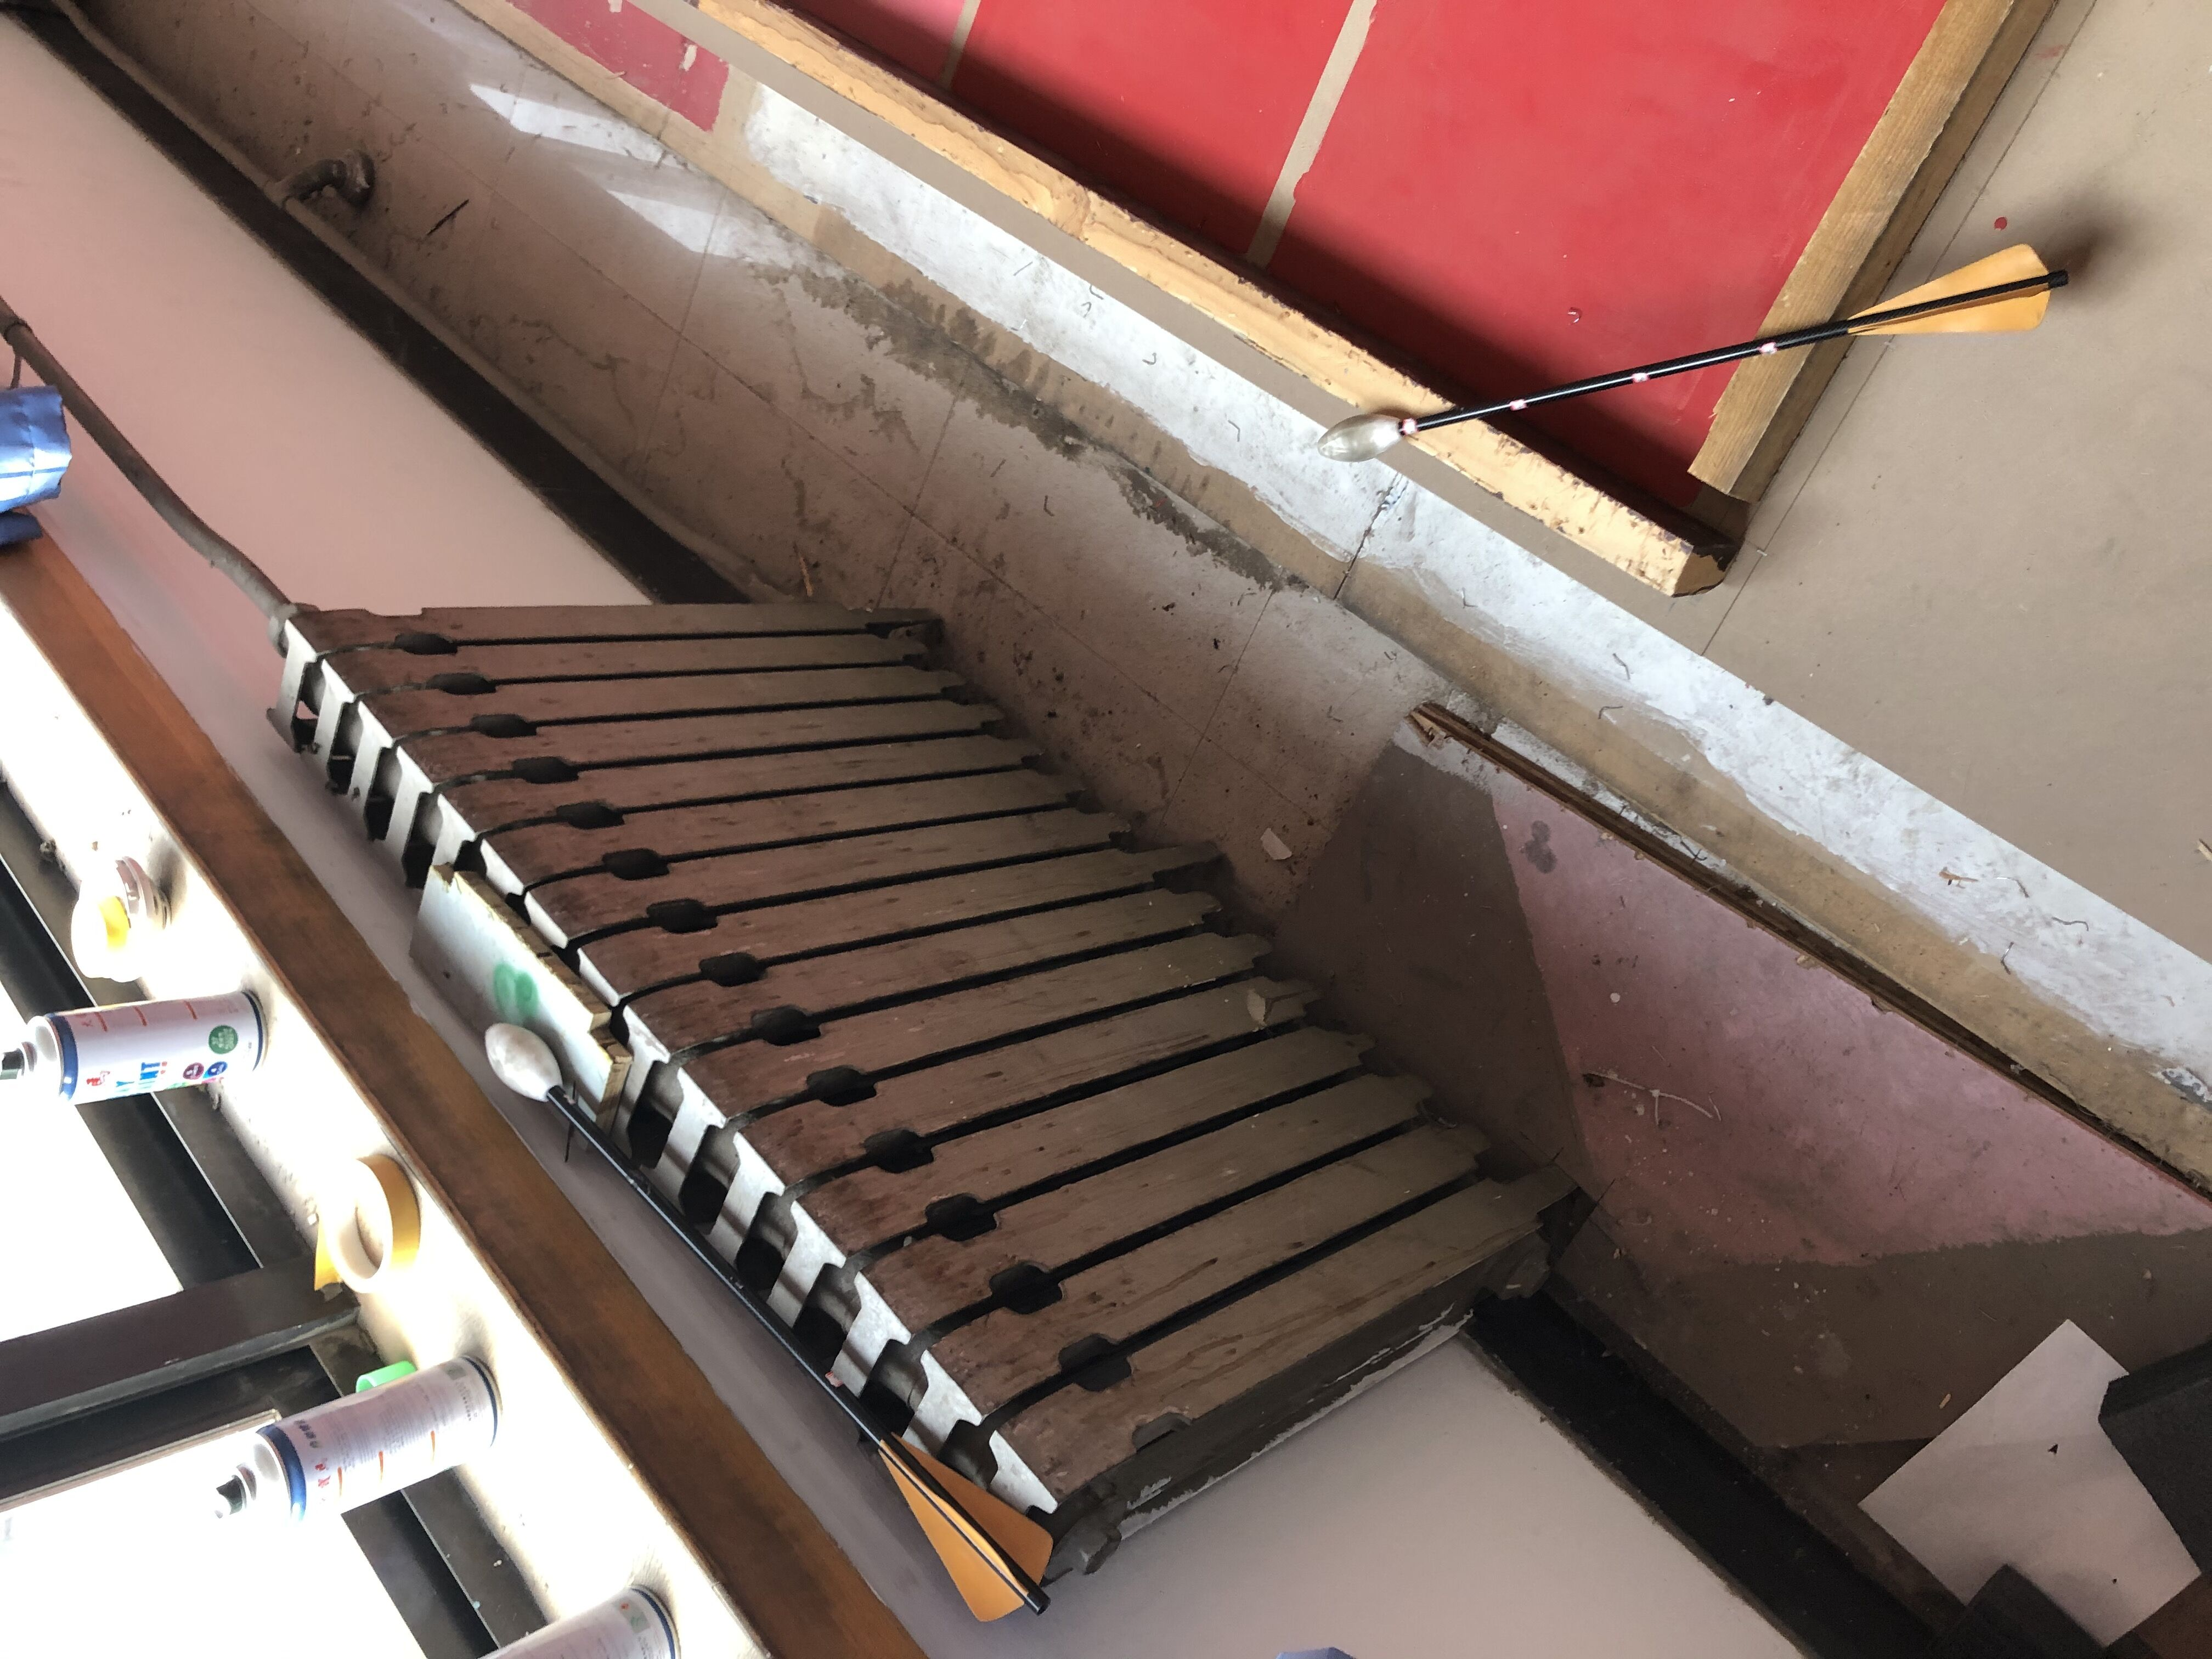arrow: (482, 1016, 1055, 1628), (1318, 240, 2067, 462)
arrowFront: (482, 1014, 563, 1101), (1318, 411, 1407, 460)
